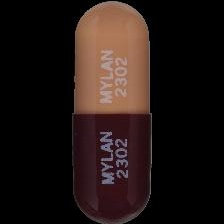51079-631: (0, 0, 224, 224)
